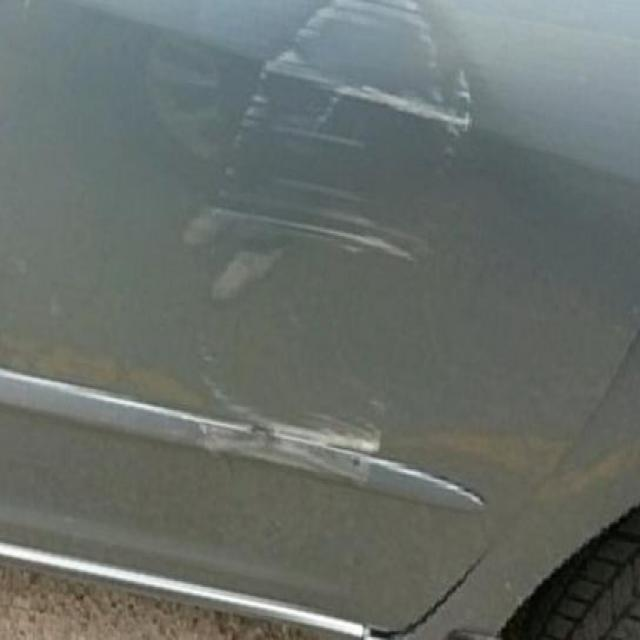scratch: (164, 3, 494, 487)
